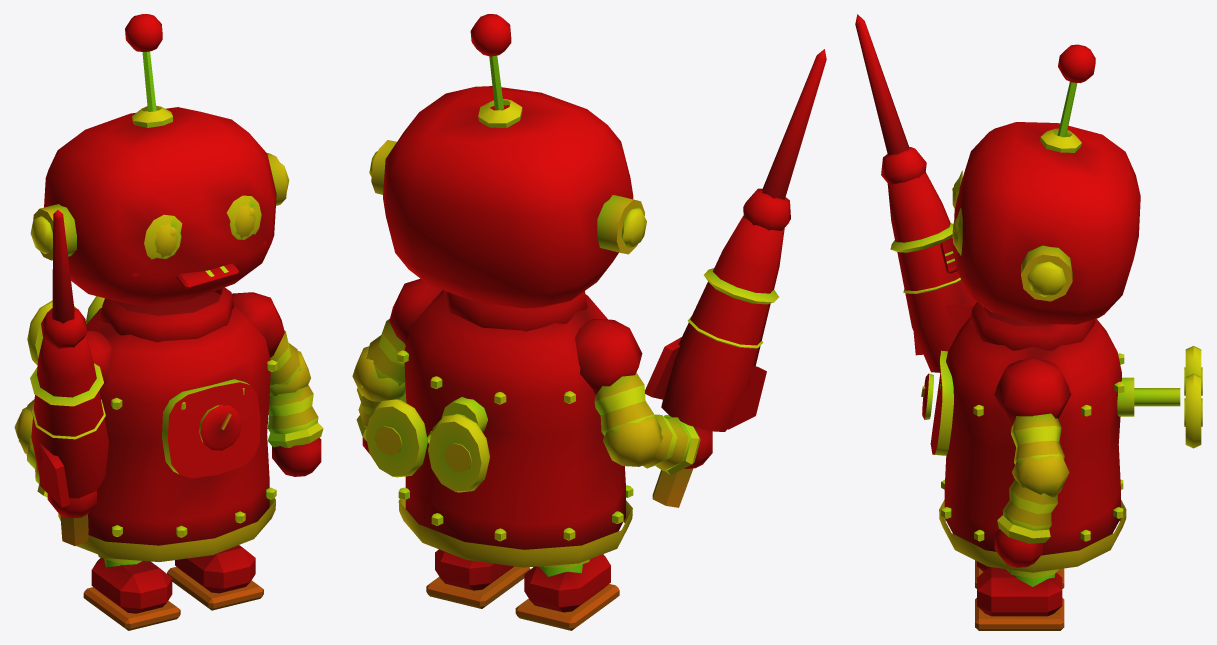
The model's file is RobotWorker_gold.glb.
3 renders of one model, left to right at view 1: azimuth 30°, elevation 25°; view 2: azimuth 150°, elevation 25°; view 3: azimuth 270°, elevation 25°, orthographic. The views are drawn at different scales.
Visible parts, largest first — view 1: RobotWorker_gold; view 2: RobotWorker_gold; view 3: RobotWorker_gold.
Boxes of the visible parts, bbox=[...] form: RobotWorker_gold: bbox=[14, 14, 323, 630]; RobotWorker_gold: bbox=[352, 14, 826, 630]; RobotWorker_gold: bbox=[855, 14, 1202, 630].
Size of the model in its own units: 0.6047 by 0.93 by 0.5295.
